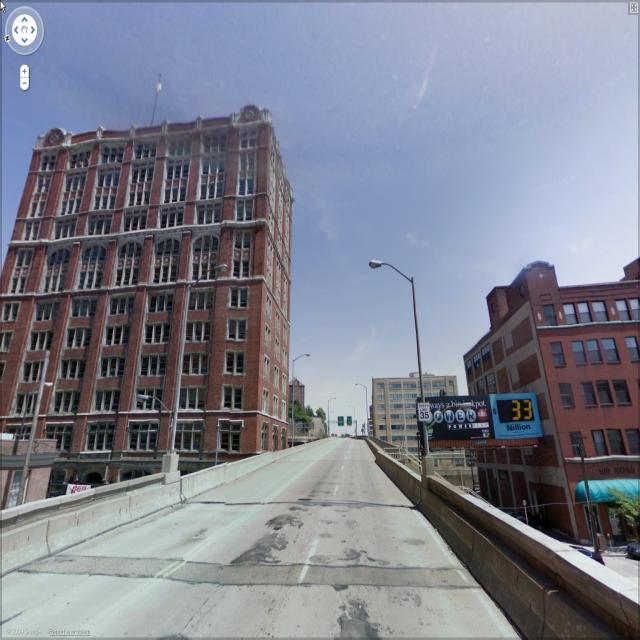b_1: (6, 119, 292, 444), (476, 261, 640, 558), (377, 366, 487, 511)
